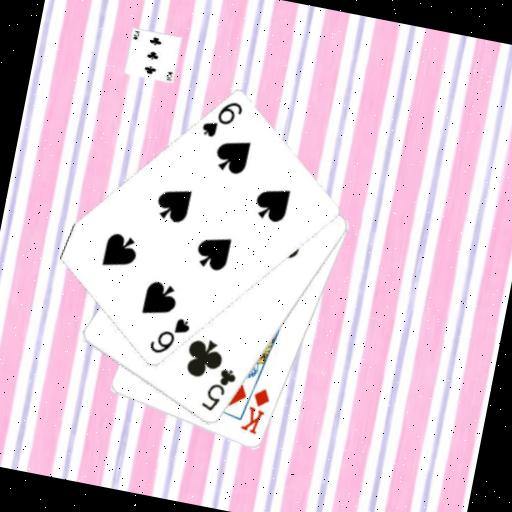5C: (197, 363, 240, 418)
6S: (197, 94, 247, 145), (145, 310, 194, 361)
KD: (237, 383, 274, 438)
